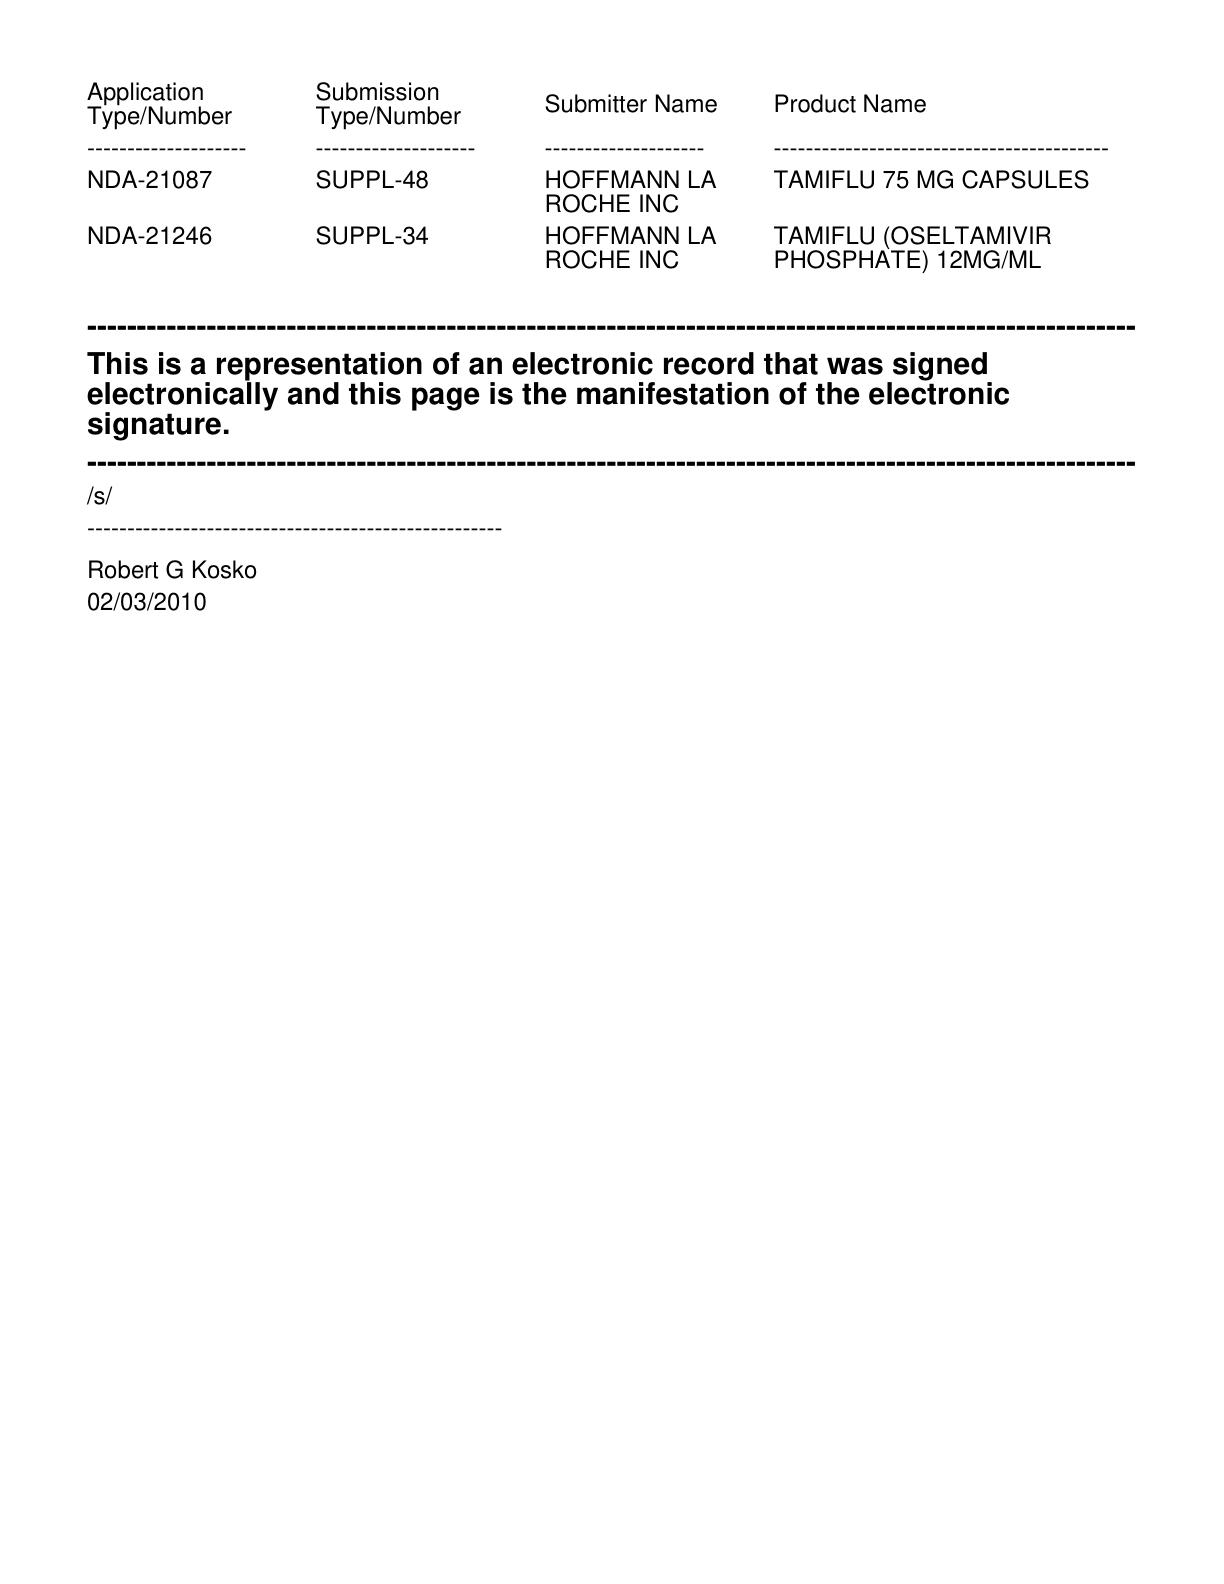nolines: (84, 78, 1106, 273)
